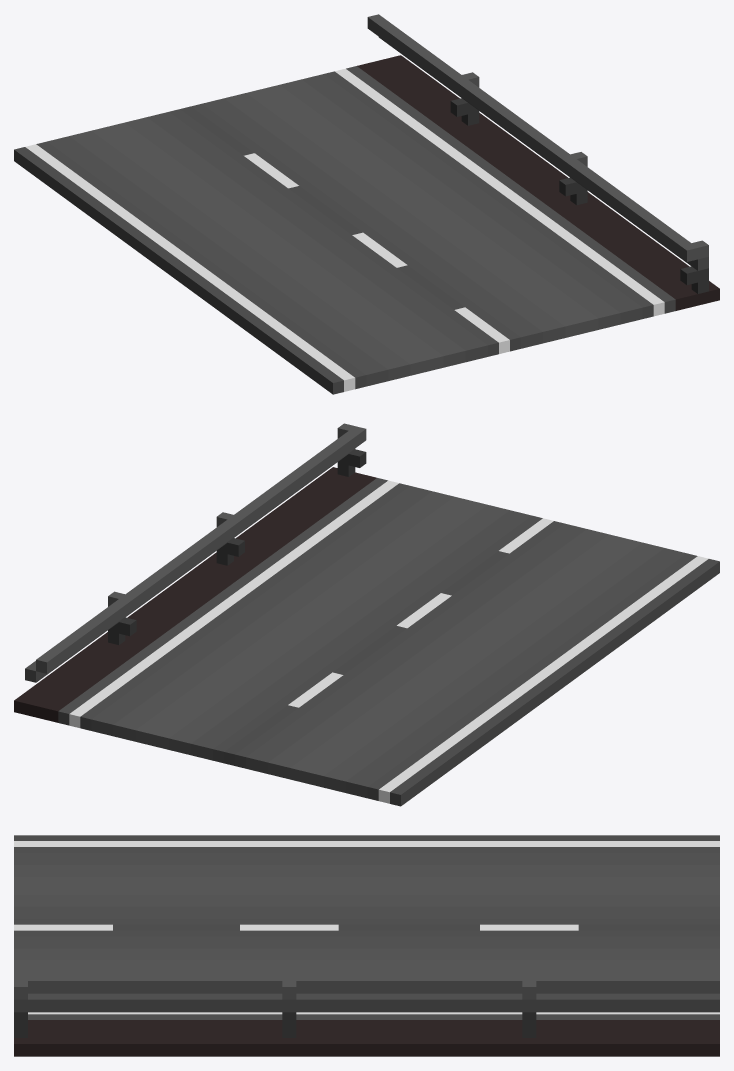
Rendered from half_road2.obj.
The picture shows the model from 3 angles, top to bottom: view 1: azimuth 30°, elevation 25°; view 2: azimuth 150°, elevation 25°; view 3: azimuth 270°, elevation 25°; orthographic projection. The views are drawn at different scales.
Size of the model in its own units: 7 by 1 by 10.
1 material, 1 textured.
